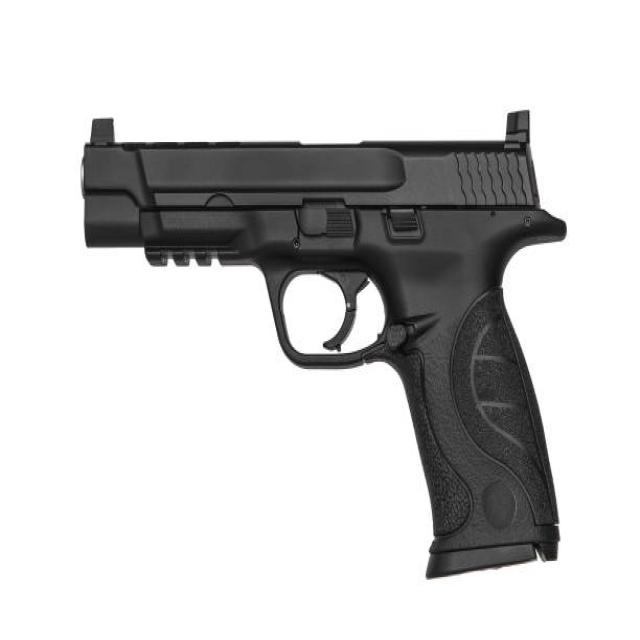pistol: (76, 105, 572, 589)
